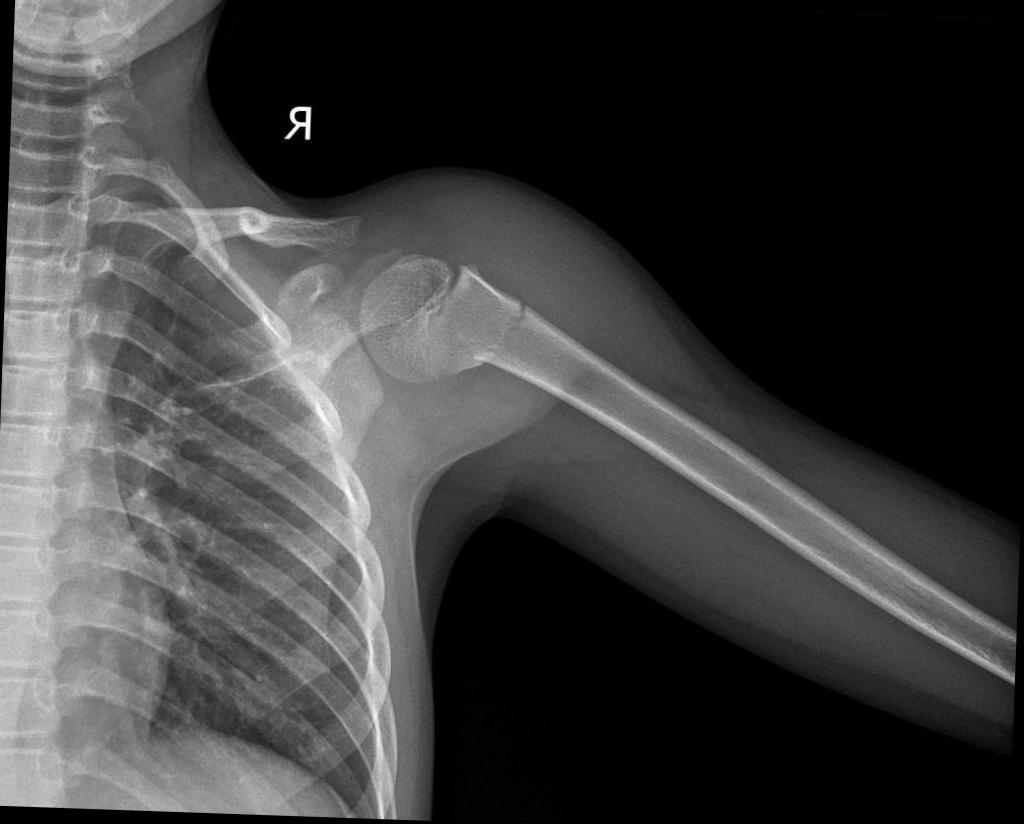line: (485, 299, 527, 356)
